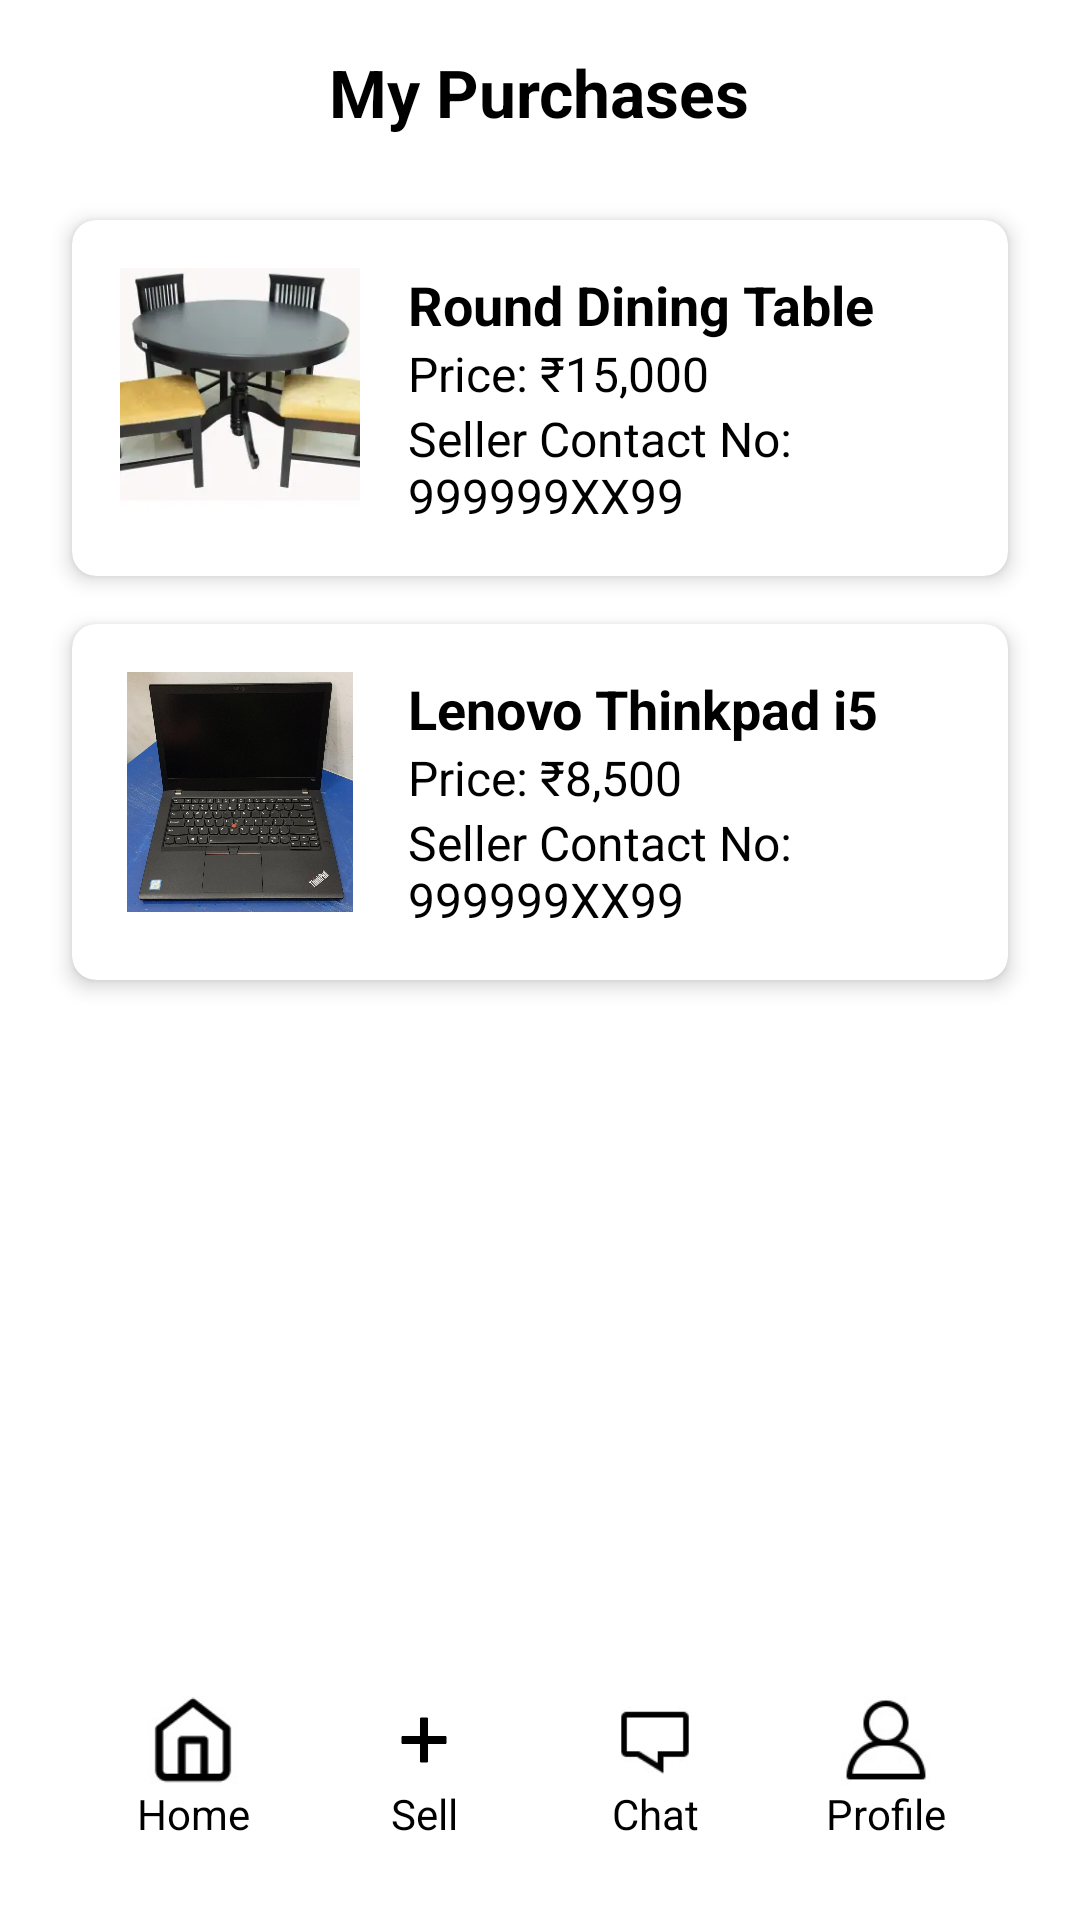

Where icons sit on this 1080x1920 app screen, as bbox=[x1, y1, x2, y2]:
second hand table: bbox=[120, 273, 360, 488]
